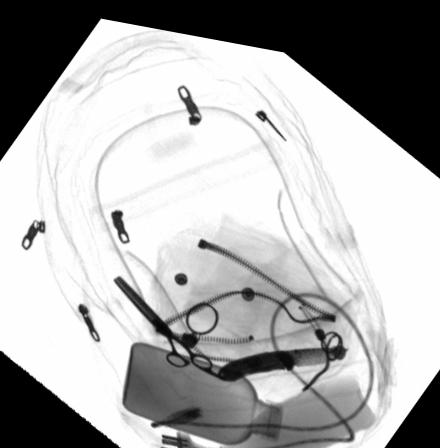Knife: (215, 333, 348, 374)
Scissors: (112, 271, 233, 375)
